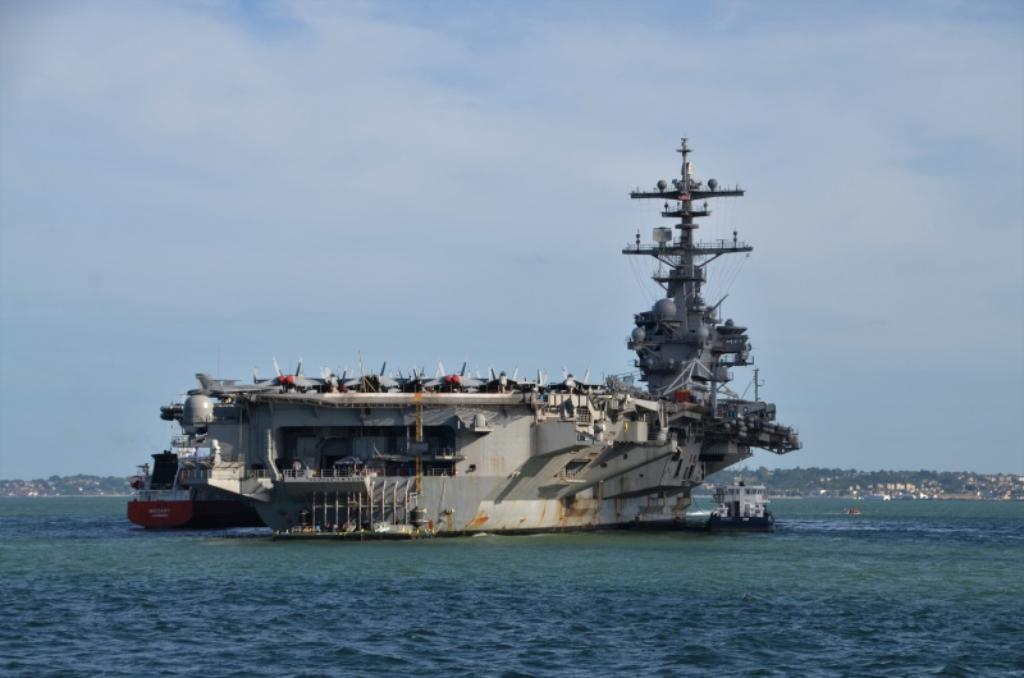Warship: (158, 135, 822, 549)
